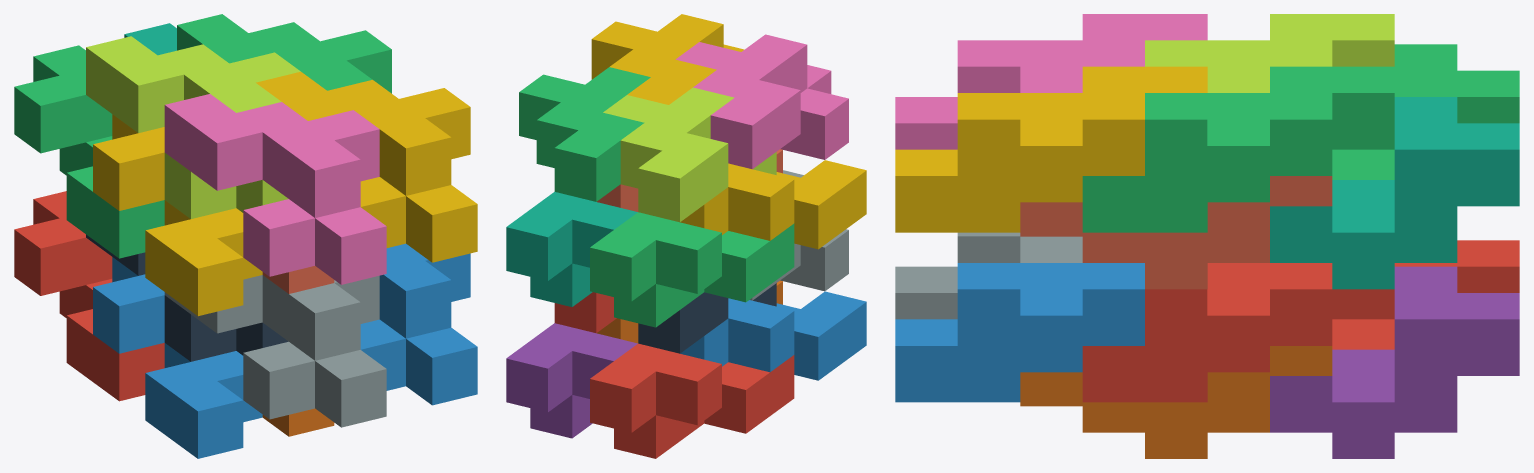
File: tiling.obj
3 renders of one model, left to right at view 1: azimuth 30°, elevation 25°; view 2: azimuth 150°, elevation 25°; view 3: azimuth 270°, elevation 25°, orthographic. The views are drawn at different scales.
Visible parts, largest first — view 1: copy_2_domain_4, copy_2_domain_8, copy_2_domain_2, copy_2_domain_3, copy_1_domain_4, copy_1_domain_2, copy_2_domain_6, copy_1_domain_3, copy_1_domain_1, copy_2_domain_7, copy_2_domain_1, copy_1_domain_6 (+2 smaller); view 2: copy_1_domain_1, copy_1_domain_3, copy_2_domain_4, copy_2_domain_3, copy_2_domain_7, copy_1_domain_4, copy_1_domain_2, copy_1_domain_5, copy_1_domain_7, copy_2_domain_8, copy_2_domain_1, copy_2_domain_2 (+3 smaller); view 3: copy_2_domain_7, copy_2_domain_8, copy_1_domain_7, copy_1_domain_5, copy_2_domain_6, copy_2_domain_5, copy_2_domain_4, copy_1_domain_8, copy_1_domain_6, copy_2_domain_3, copy_1_domain_3, copy_2_domain_2 (+1 smaller).
Part boxes in pixels (x1,y1,x2,y2): copy_2_domain_4: (164,94,386,284); copy_2_domain_8: (256,71,477,262); copy_2_domain_2: (164,275,386,427); copy_2_domain_3: (86,36,300,218); copy_1_domain_4: (93,114,262,316); copy_1_domain_2: (93,257,262,458); copy_2_domain_6: (360,243,477,405); copy_1_domain_3: (14,45,164,258); copy_1_domain_1: (14,191,164,401); copy_2_domain_7: (177,14,391,93); copy_2_domain_1: (86,234,288,361); copy_1_domain_6: (262,408,334,436); copy_1_domain_1: (590,343,794,458); copy_1_domain_3: (590,212,794,327); copy_2_domain_4: (675,34,848,169); copy_2_domain_3: (603,87,776,222); copy_2_domain_7: (519,67,650,201); copy_1_domain_4: (680,160,866,249); copy_1_domain_2: (680,291,866,380); copy_1_domain_5: (506,323,637,438); copy_1_domain_7: (506,192,637,306); copy_2_domain_8: (591,14,744,104); copy_2_domain_1: (638,283,776,353); copy_2_domain_2: (750,170,848,300); copy_2_domain_7: (1082,66,1394,232); copy_2_domain_8: (895,66,1207,232); copy_1_domain_7: (1270,97,1519,289); copy_1_domain_5: (1270,266,1519,458); copy_2_domain_6: (895,263,1144,402); copy_2_domain_5: (1082,263,1394,402); copy_2_domain_4: (895,14,1207,149); copy_1_domain_8: (1020,176,1332,289); copy_1_domain_6: (1020,346,1332,458); copy_2_domain_3: (1145,14,1394,92); copy_1_domain_3: (1332,44,1519,179); copy_2_domain_2: (895,232,1082,319).
Size of the model in its own units: 6 by 6 by 10.
